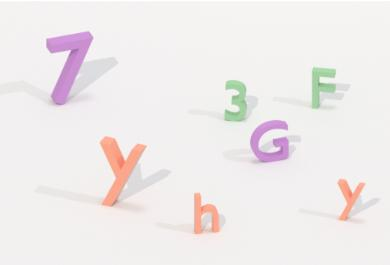3: (222, 75, 250, 126)
7: (41, 26, 96, 108)
F: (307, 62, 340, 113)
G: (248, 116, 293, 165)
h: (190, 189, 224, 237)
y: (93, 132, 152, 211), (333, 174, 368, 224)
